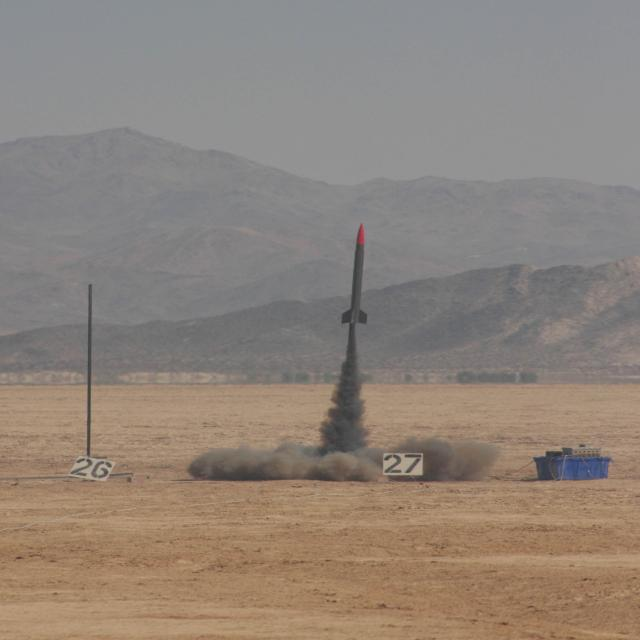Rocket: (340, 222, 369, 326)
